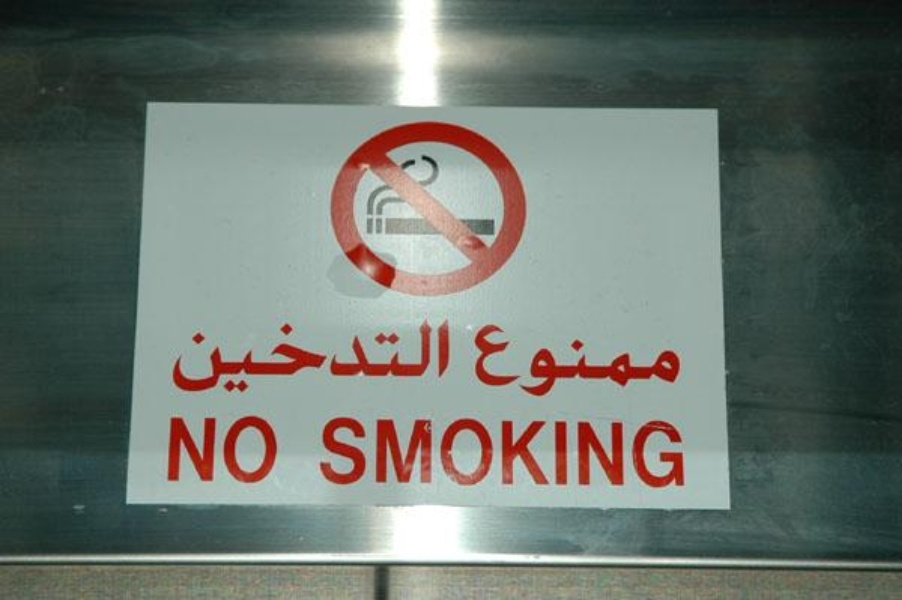text: (673, 416, 689, 491), (177, 316, 192, 396), (193, 316, 208, 396), (209, 316, 224, 396), (225, 316, 240, 396), (241, 316, 256, 396), (257, 316, 272, 396), (273, 316, 288, 396), (289, 316, 304, 396), (305, 316, 320, 396), (321, 316, 336, 396), (337, 316, 352, 396), (353, 316, 368, 396), (369, 316, 384, 396), (385, 316, 400, 396), (401, 316, 416, 396), (417, 316, 432, 396), (433, 316, 448, 396), (321, 416, 336, 491), (337, 416, 352, 491), (353, 416, 368, 491), (369, 416, 384, 491), (385, 416, 400, 491), (401, 416, 416, 491), (417, 416, 432, 491), (433, 416, 448, 491), (449, 416, 464, 491), (465, 416, 480, 491), (481, 416, 496, 491), (497, 416, 512, 491), (513, 416, 528, 491), (529, 416, 544, 491), (545, 416, 560, 491), (561, 416, 576, 491), (577, 416, 592, 491), (593, 416, 608, 491), (609, 416, 624, 491), (625, 416, 640, 491), (641, 416, 656, 491), (657, 416, 672, 491), (177, 413, 192, 486), (193, 413, 208, 486), (209, 413, 224, 486), (225, 413, 240, 486), (241, 413, 256, 486), (257, 413, 272, 486), (481, 324, 496, 397), (497, 324, 512, 397), (513, 324, 528, 397), (529, 324, 544, 397), (545, 324, 560, 397), (561, 324, 576, 397), (577, 324, 592, 397), (593, 324, 608, 397), (609, 324, 624, 397), (625, 324, 640, 397), (641, 324, 656, 397), (657, 324, 672, 397), (167, 413, 176, 486), (673, 324, 682, 397), (273, 413, 280, 486), (474, 324, 480, 397), (173, 316, 176, 396), (449, 316, 452, 396)
